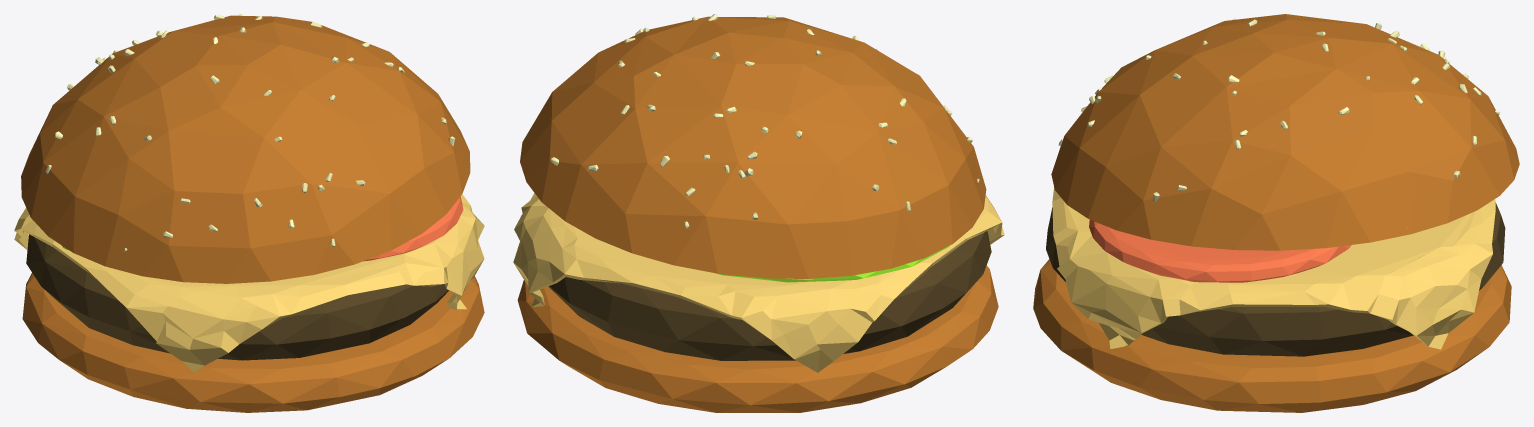
File: Burger_low-poly.glb
3 renders of one model, left to right at view 1: azimuth 30°, elevation 25°; view 2: azimuth 150°, elevation 25°; view 3: azimuth 270°, elevation 25°, orthographic. The views are drawn at different scales.
Visible parts, largest first — view 1: Top_bun, bottom_bun, Cheese, Patty, Sesame_seeds, Tomato; view 2: Top_bun, bottom_bun, Cheese, Patty, Sesame_seeds, Salad; view 3: Top_bun, Cheese, bottom_bun, Patty, Tomato, Sesame_seeds.
Part boxes in pixels (x1,y1,x2,y2): Top_bun: (21,15,470,283); bottom_bun: (22,273,484,412); Cheese: (14,194,484,372); Patty: (26,234,448,360); Sesame_seeds: (45,14,455,251); Tomato: (364,196,463,261); Top_bun: (520,16,986,278); bottom_bun: (517,265,998,412); Cheese: (513,193,1004,372); Patty: (548,231,991,360); Sesame_seeds: (523,14,979,262); Salad: (714,245,949,282); Top_bun: (1051,14,1519,250); Cheese: (1052,187,1495,349); bottom_bun: (1033,259,1511,412); Patty: (1046,202,1505,356); Tomato: (1089,219,1351,282); Sesame_seeds: (1058,18,1500,227).
Size of the model in its own units: 0.4614 by 0.3218 by 0.4677.
